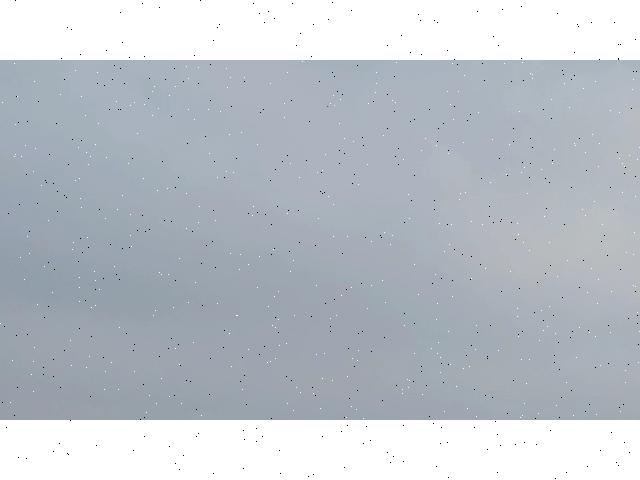Anti-Drone: (324, 104, 334, 108)
